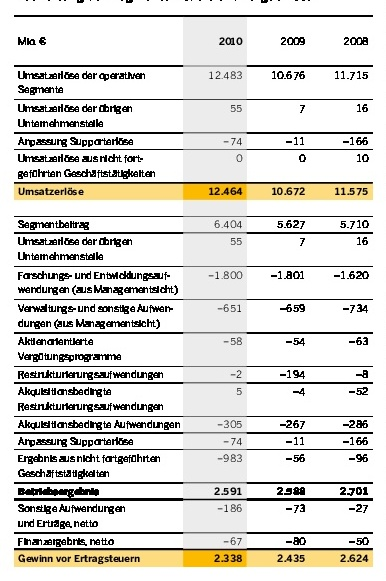table: (0, 0, 386, 581)
